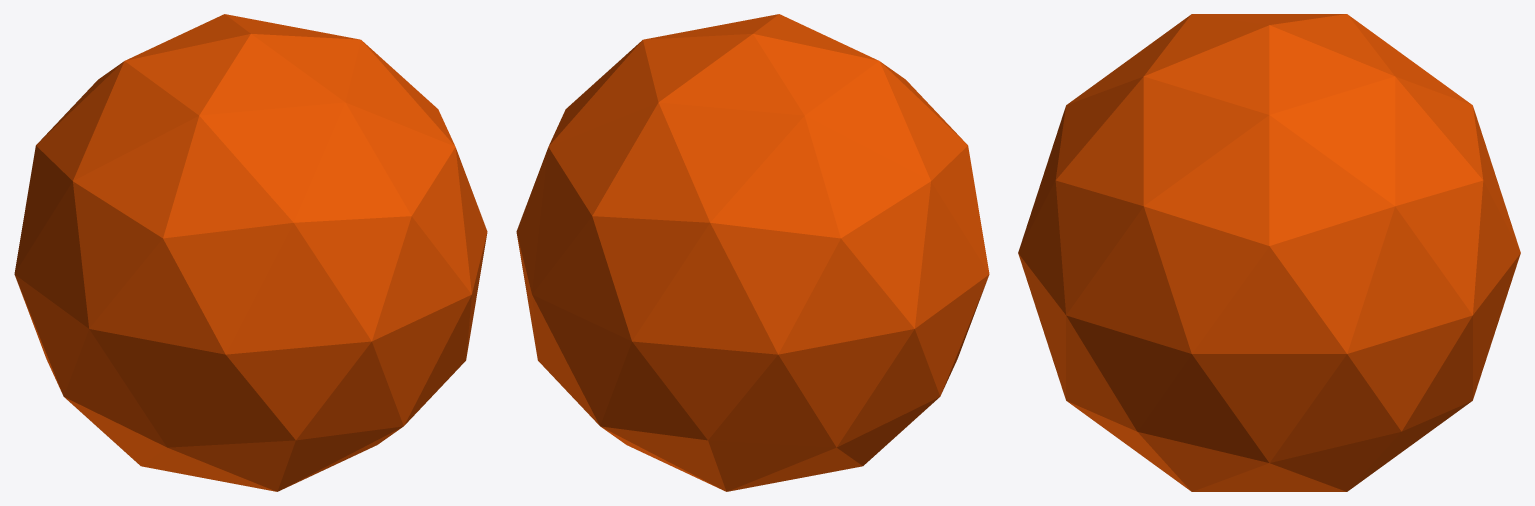
The model's file is icoesfera.gltf.
3 renders of one model, left to right at view 1: azimuth 30°, elevation 25°; view 2: azimuth 150°, elevation 25°; view 3: azimuth 270°, elevation 25°, orthographic. The views are drawn at different scales.
Parts seen in each view (by area): view 1: Icosphere; view 2: Icosphere; view 3: Icosphere.
Part boxes in pixels (x1,y1,x2,y2): Icosphere: (14, 14, 487, 491); Icosphere: (516, 14, 989, 491); Icosphere: (1018, 14, 1520, 491).
Size of the model in its own units: 1.9 by 2 by 2.
